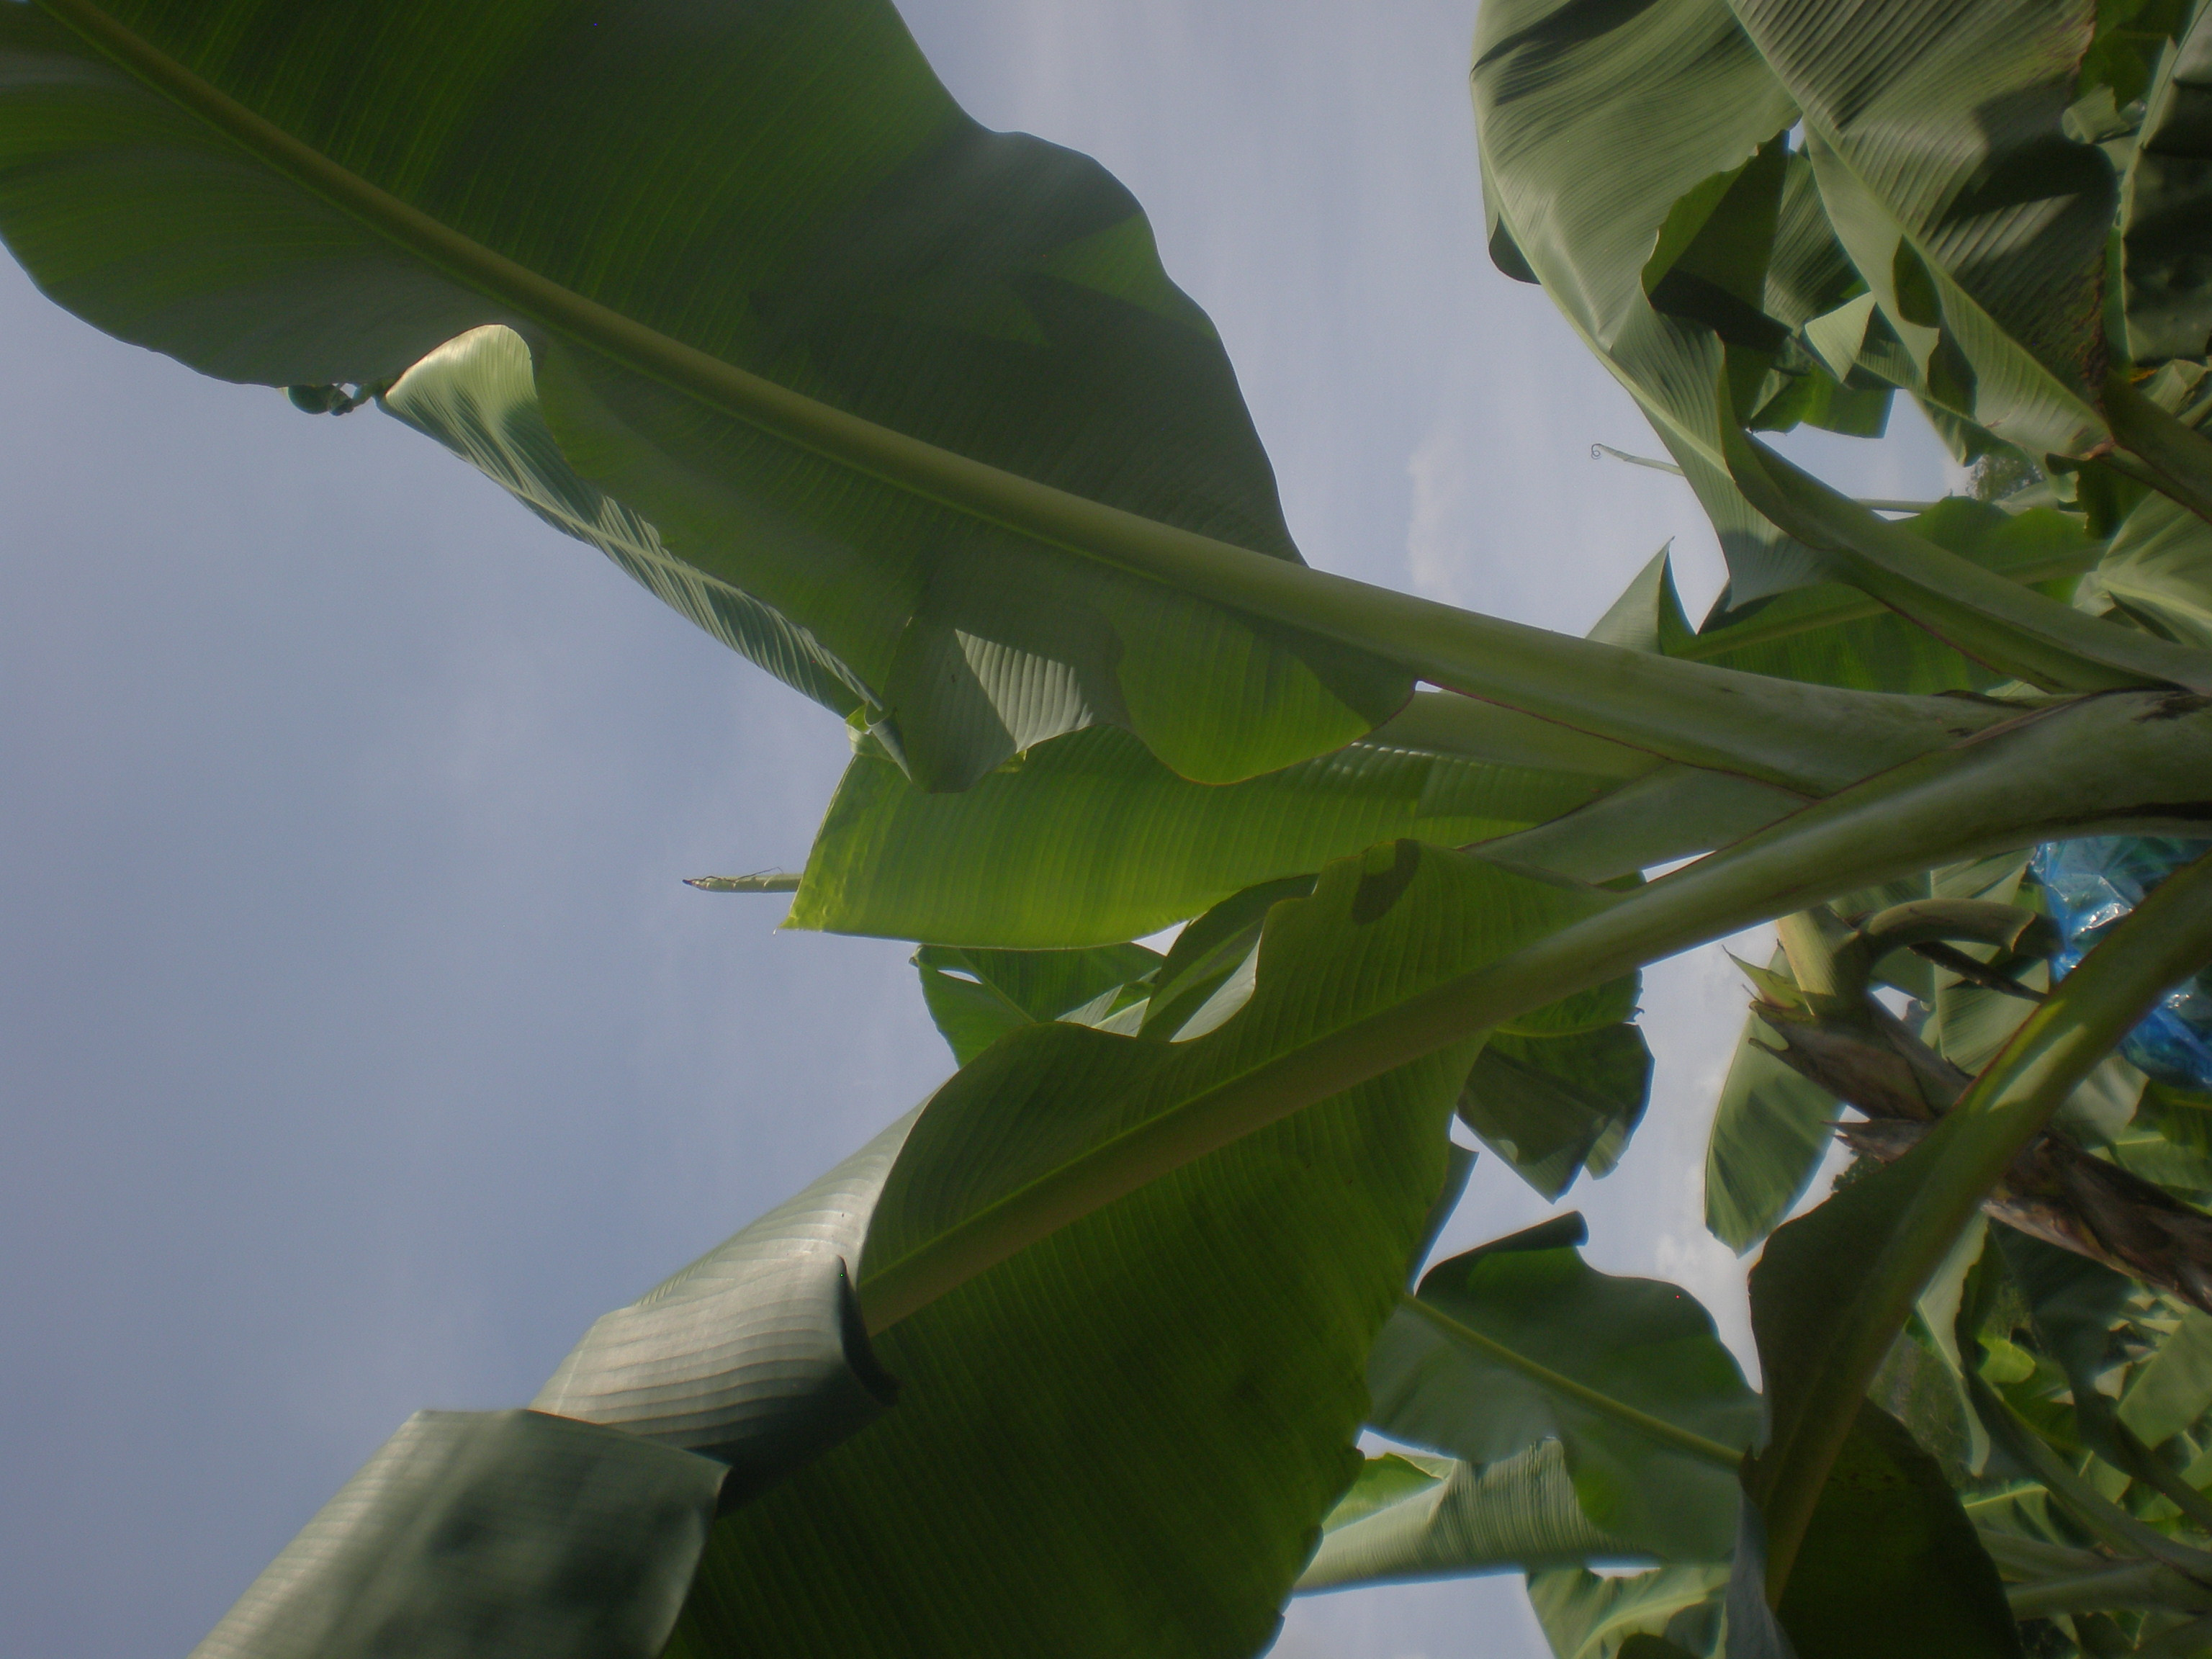candleleafs: (1588, 439, 1686, 484), (683, 866, 798, 897)
